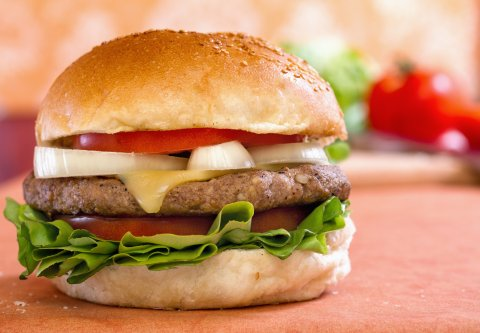hamburger: (16, 36, 375, 329)
